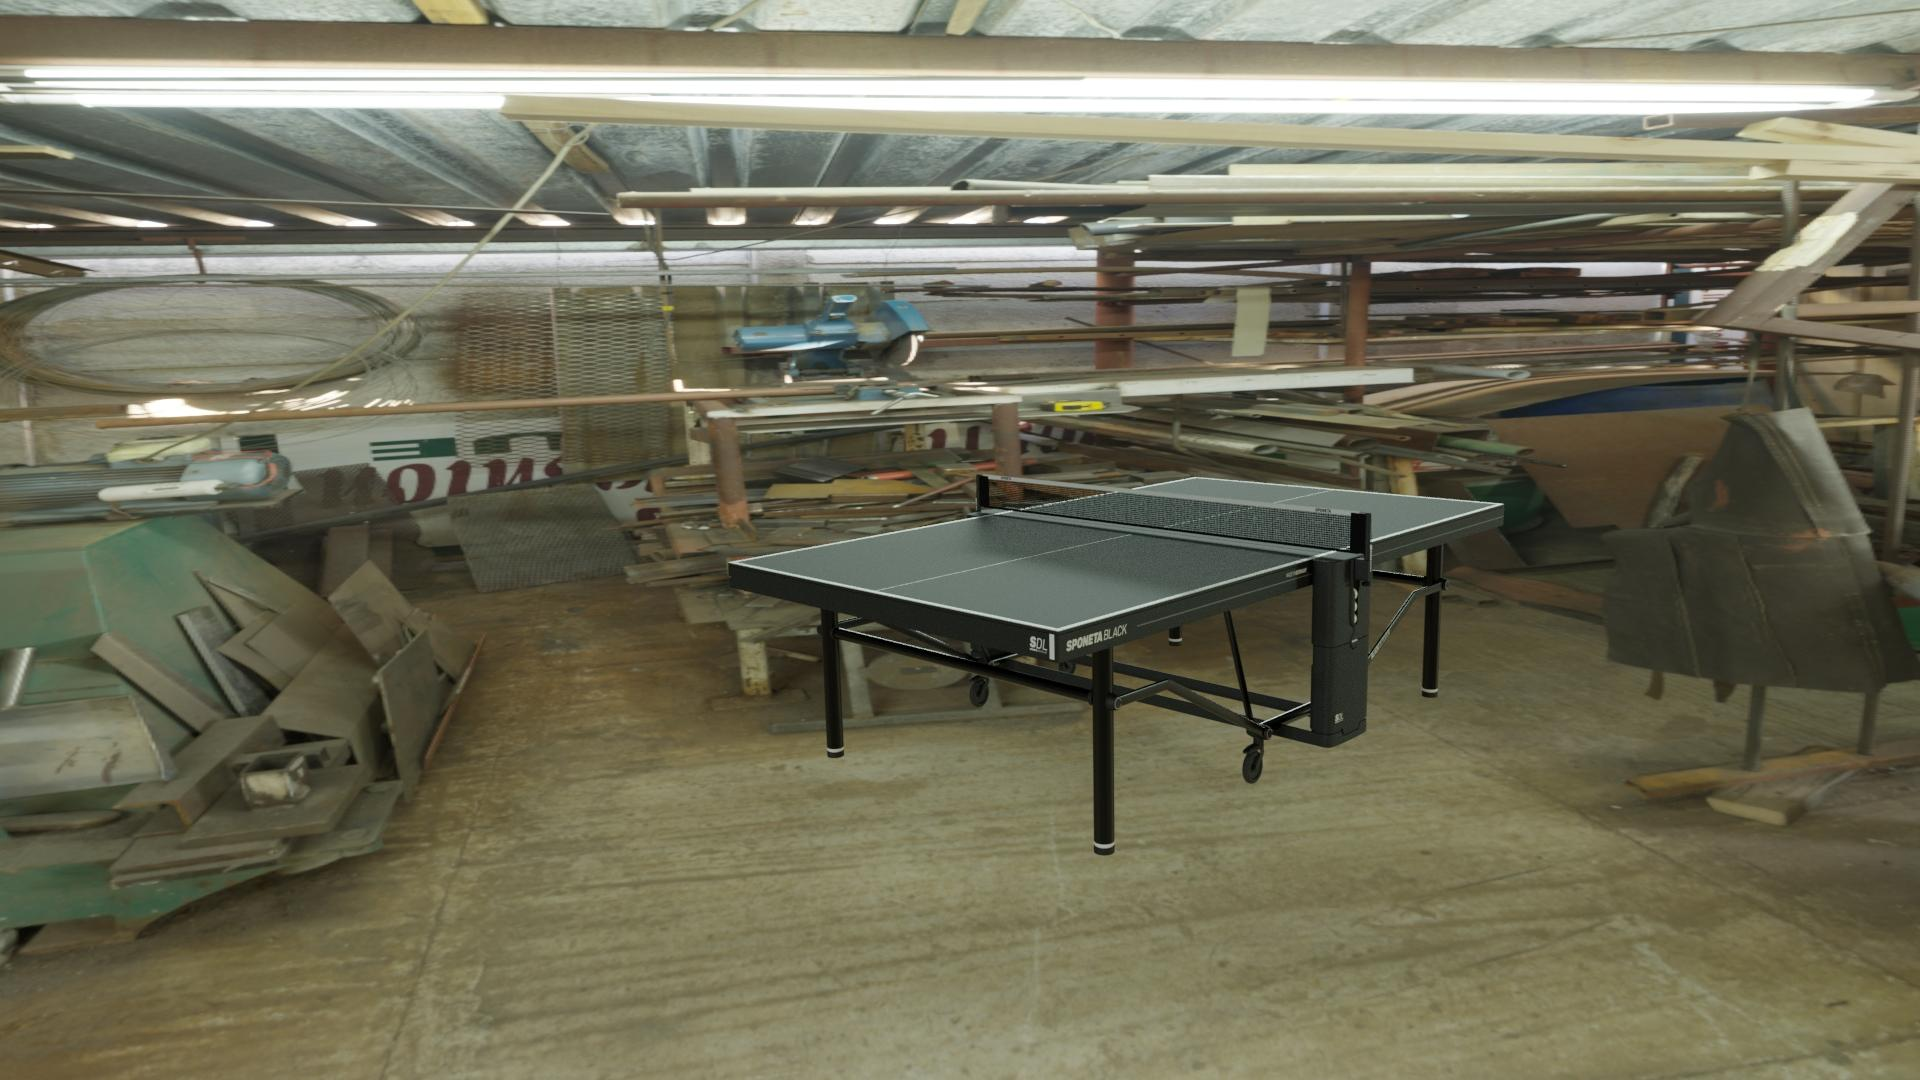table: (736, 477, 1497, 629)
